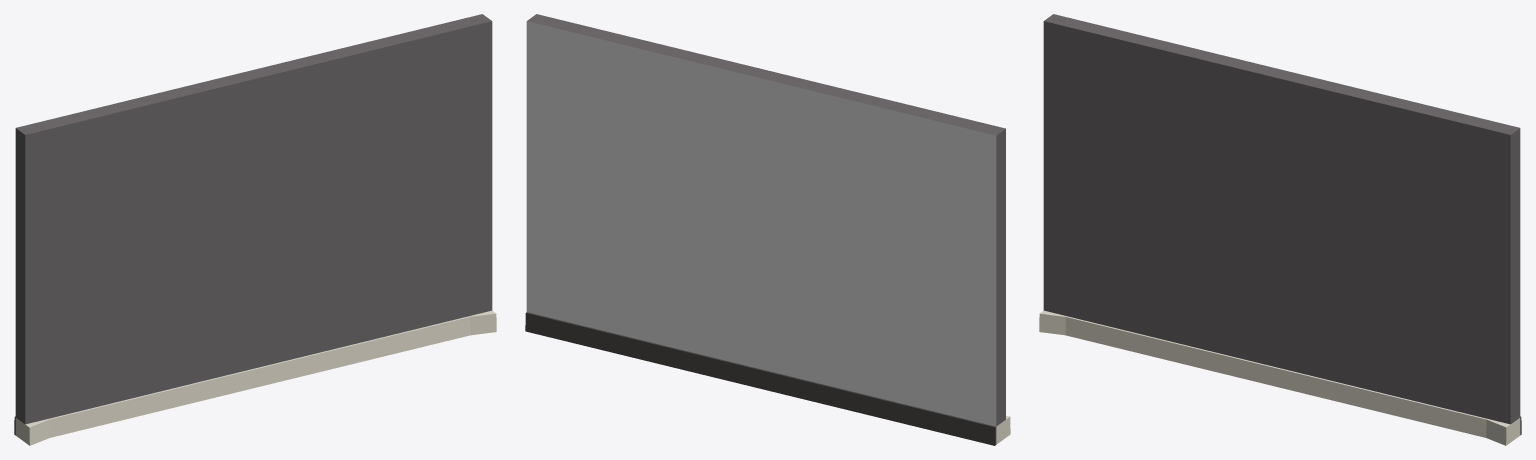
The model's file is ParedeDireita(Cozinha).glb.
3 renders of one model, left to right at view 1: azimuth 30°, elevation 25°; view 2: azimuth 150°, elevation 25°; view 3: azimuth 330°, elevation 25°, orthographic.
Parts seen in each view (by area): view 1: KitchenWall2-convcol; view 2: KitchenWall2-convcol; view 3: KitchenWall2-convcol.
Part boxes in pixels (x1,y1,x2,y2): KitchenWall2-convcol: (14,14,496,445); KitchenWall2-convcol: (525,14,1010,445); KitchenWall2-convcol: (1039,14,1521,445).
Size of the model in its own units: 5.56 by 3.5 by 0.3243.
